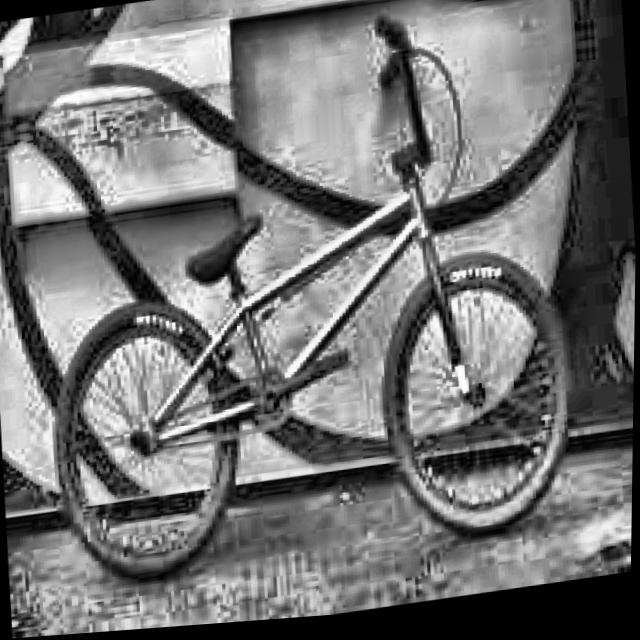bike: (13, 0, 581, 628)
